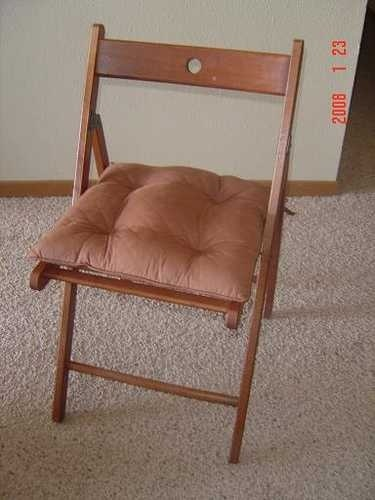obstacle: (30, 24, 303, 462)
